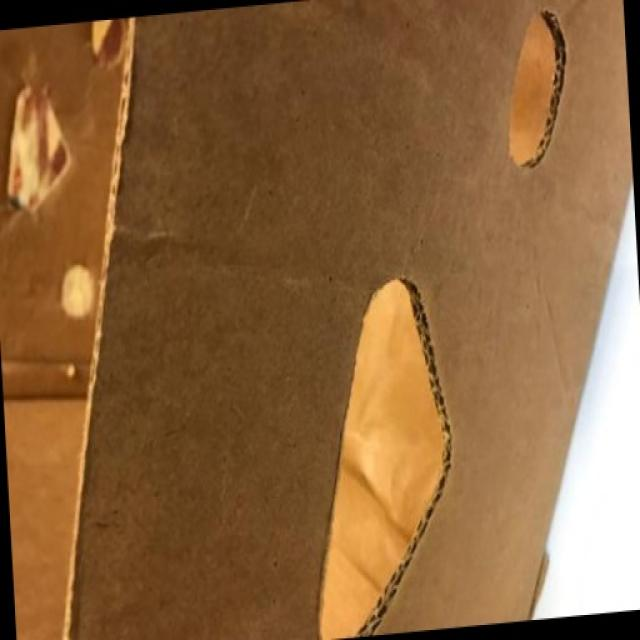carton: (4, 12, 640, 638)
